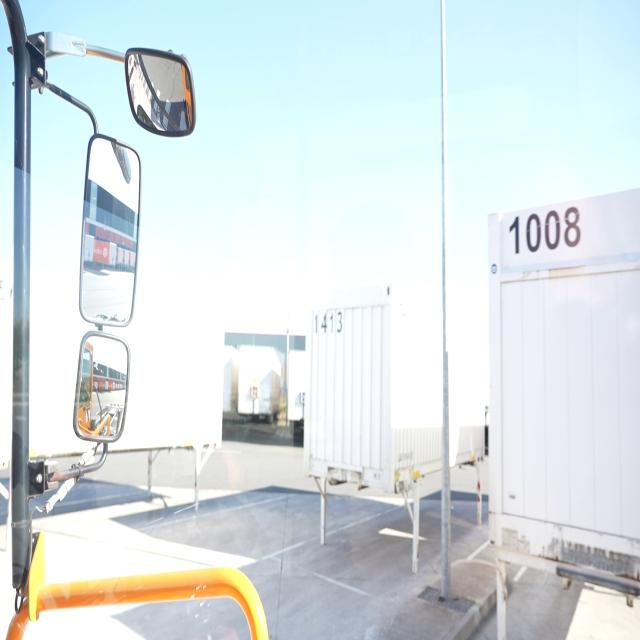Code: (506, 204, 583, 257), (312, 304, 345, 337)
